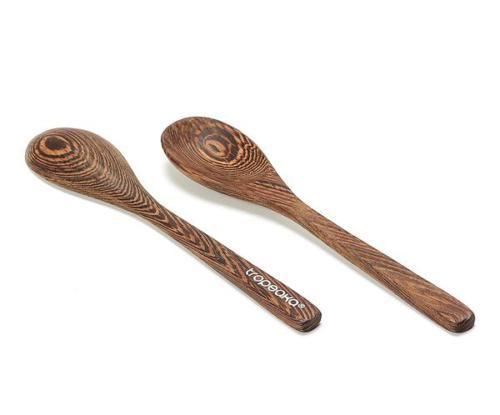Spoon: (161, 115, 475, 332), (25, 127, 322, 332)
